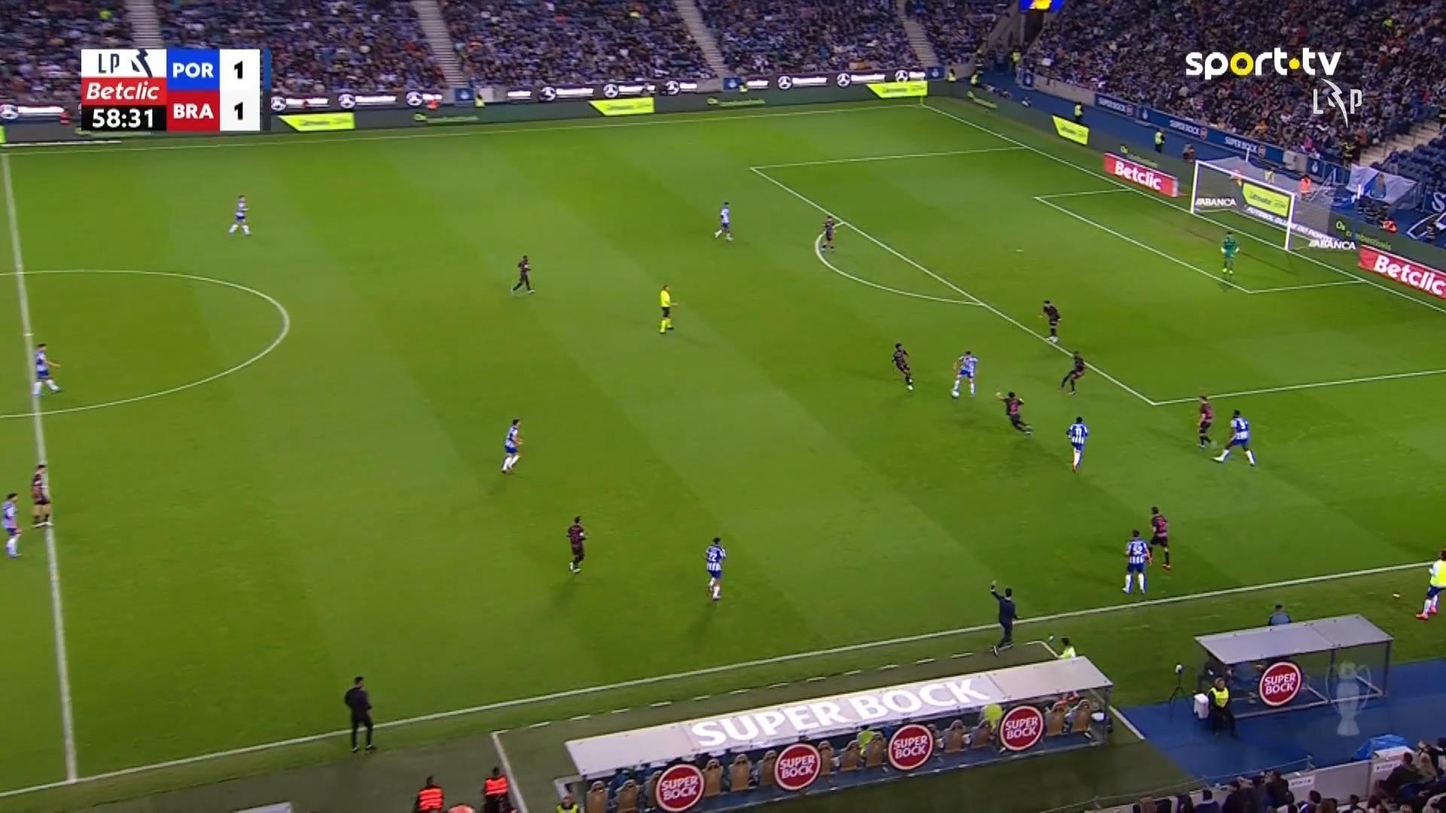goalkeeper: (1219, 230, 1240, 274)
player: (1210, 409, 1256, 466), (989, 580, 1017, 656), (1121, 528, 1152, 595), (995, 389, 1033, 437), (29, 462, 53, 528), (32, 342, 61, 396), (703, 535, 726, 600), (1148, 505, 1171, 570), (1065, 415, 1089, 473), (950, 349, 978, 398), (1, 492, 22, 557), (500, 418, 523, 473), (566, 515, 587, 574), (1060, 349, 1085, 396), (891, 342, 914, 391), (1195, 394, 1214, 449), (1039, 299, 1061, 345), (227, 193, 251, 235), (510, 254, 534, 294), (713, 201, 733, 241), (819, 215, 837, 251)
referee: (343, 675, 376, 752), (1414, 549, 1444, 620), (657, 284, 677, 333)
